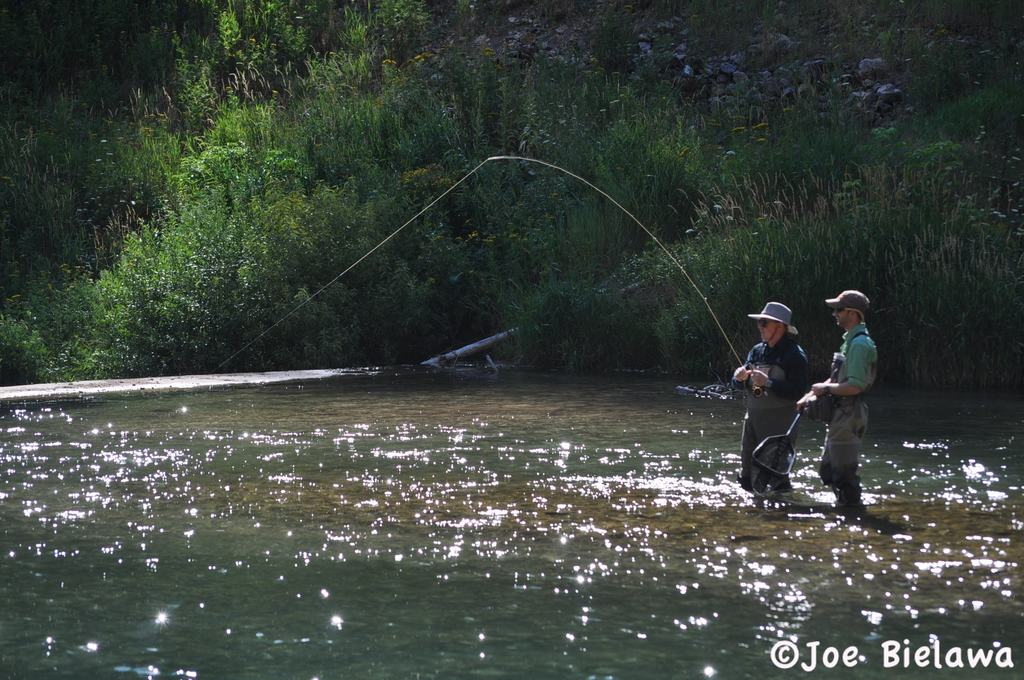Person: (795, 290, 878, 514), (731, 301, 809, 490)
